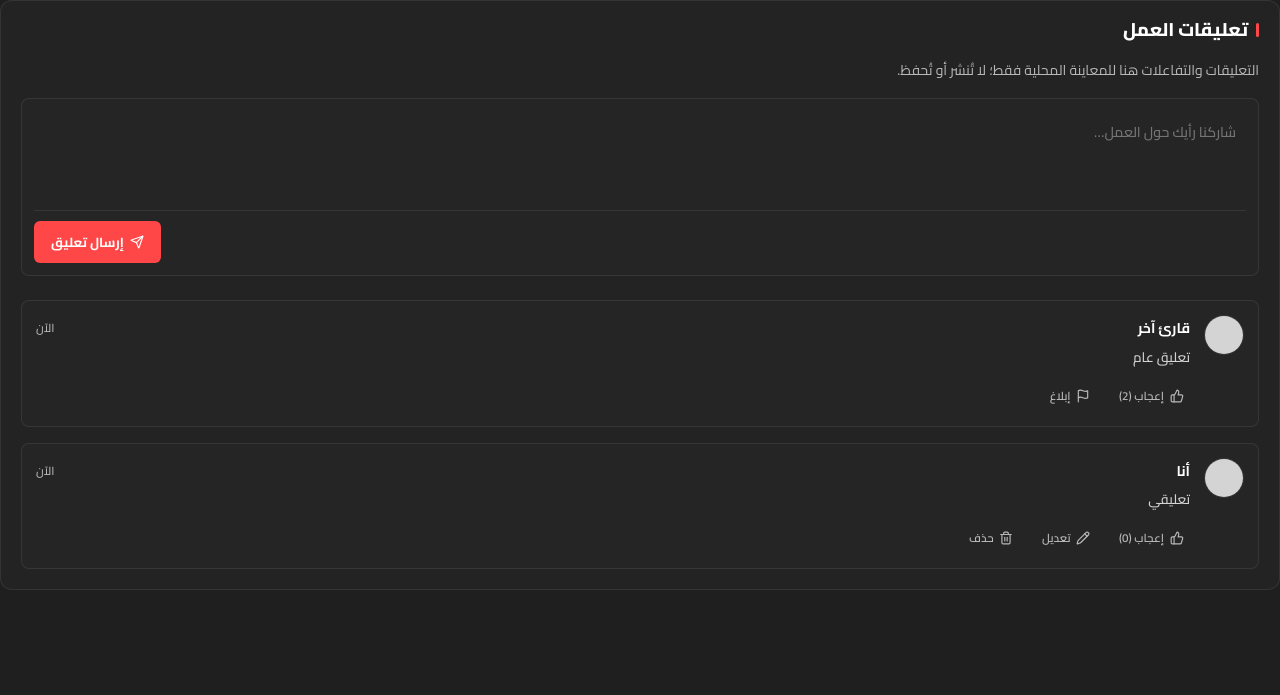
Test: CommentsSection › adds a comment from the work-level form
Type "تعليق جديد" into the text box named "اكتب تعليقًا على العمل" at {"x": 640, "y": 155}, box [34,111,1246,198]
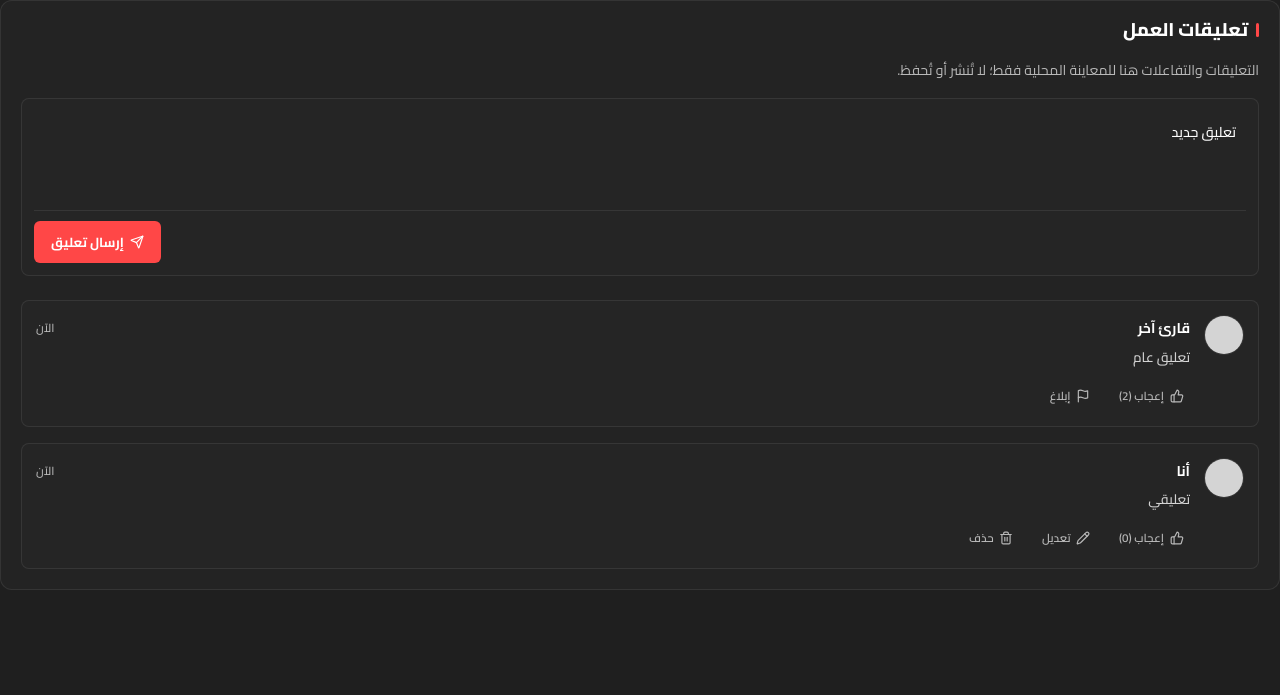
Click the button "إرسال تعليق" at {"x": 98, "y": 242}, box [34,221,161,263]
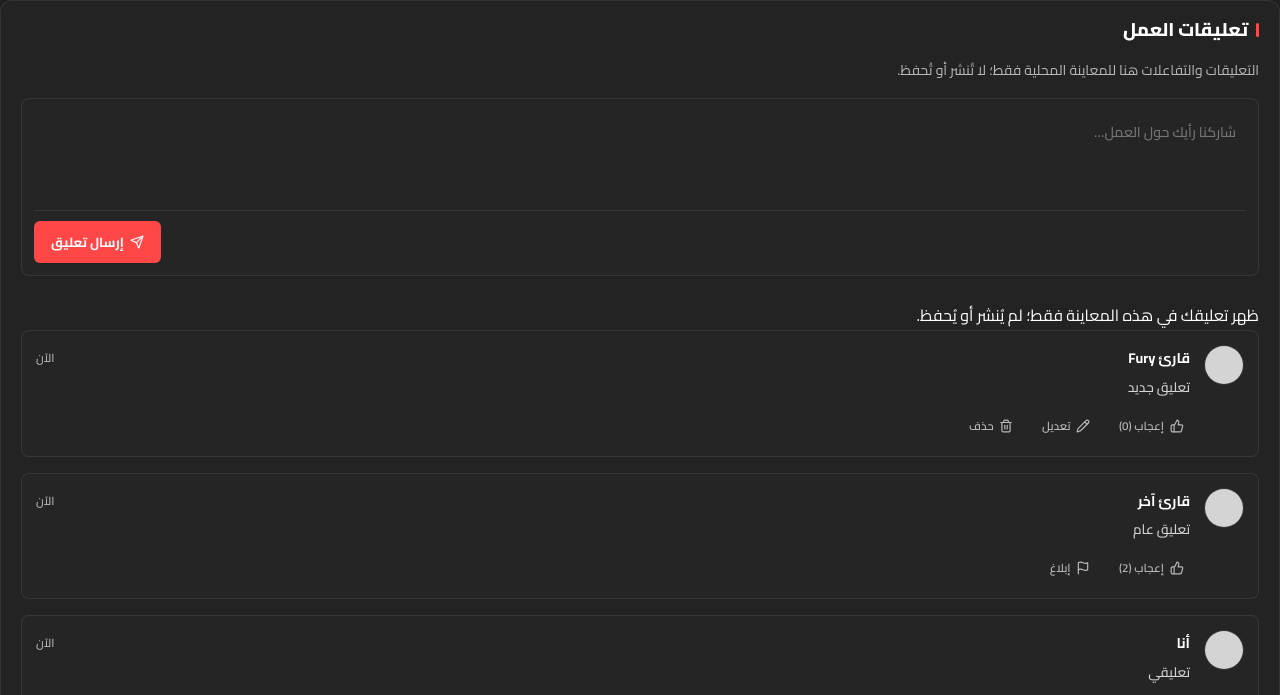
Check: the text "تعليق جديد" is shown, box [1128,374,1190,400]
Check: the message shows "لم يُنشر أو يُحفظ", box [916,300,1259,330]
